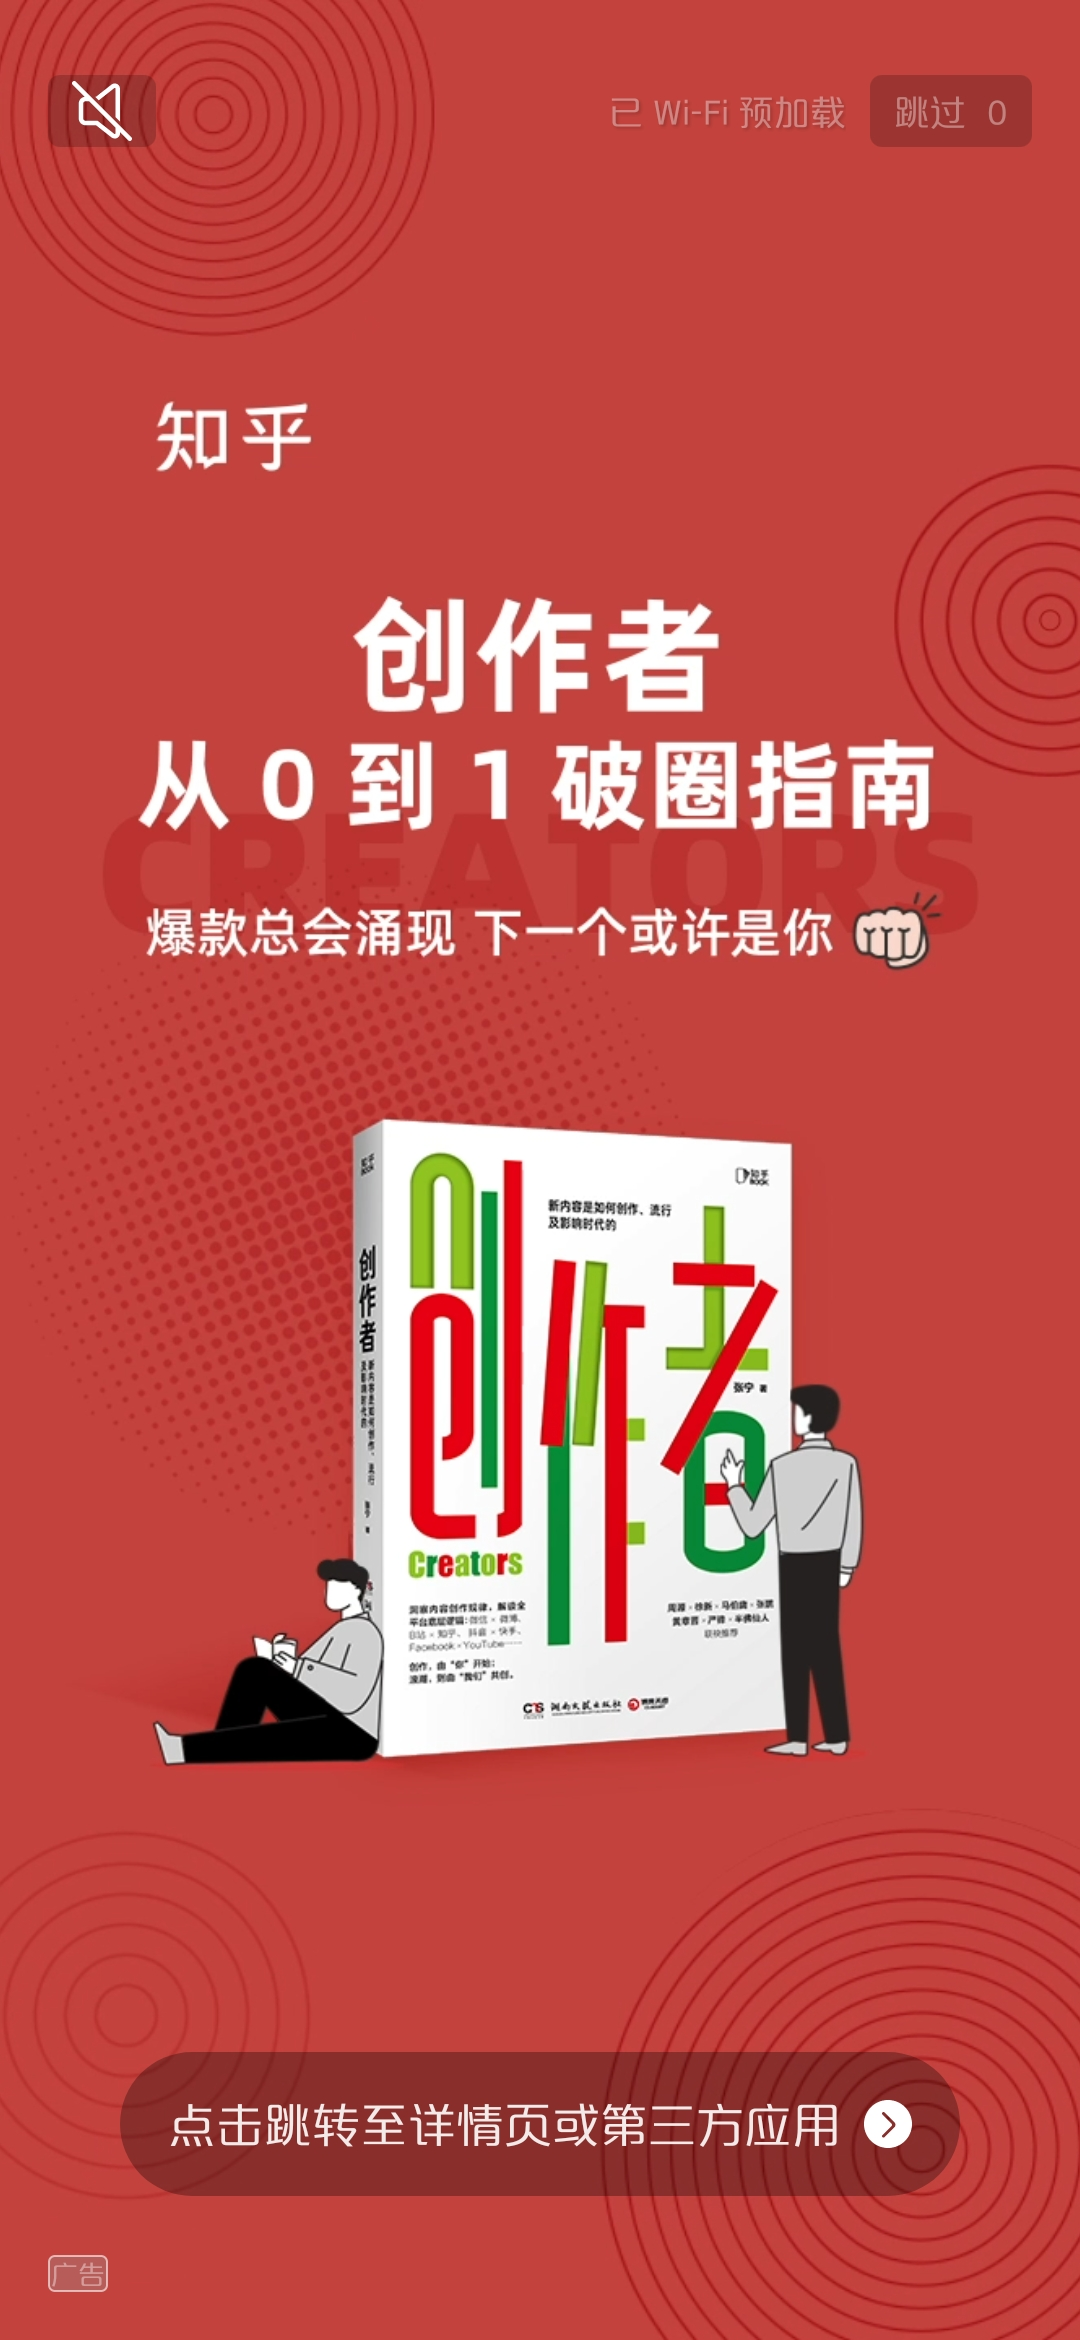skip: (879, 79, 1028, 142)
